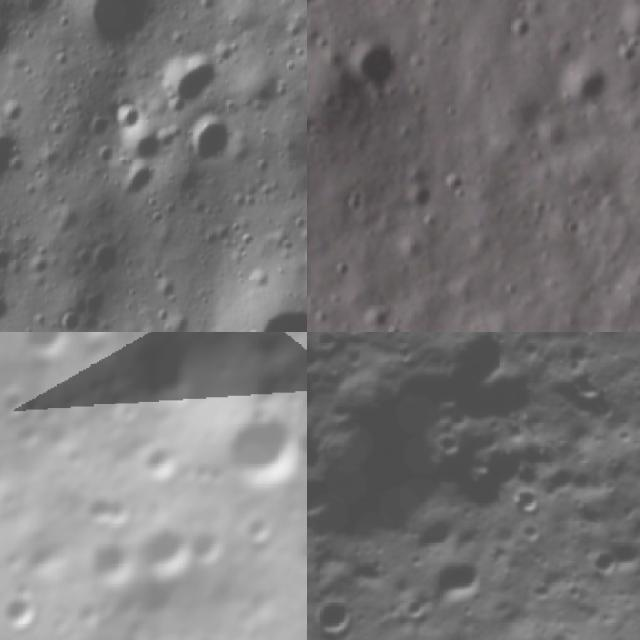crater: (307, 360, 508, 595), (209, 401, 307, 512), (443, 422, 541, 522), (124, 332, 227, 421), (471, 356, 556, 440), (436, 332, 528, 402), (132, 516, 208, 590), (77, 529, 149, 601), (578, 519, 640, 599), (78, 0, 163, 57), (427, 546, 493, 612), (183, 102, 243, 168), (162, 46, 218, 114), (344, 38, 404, 98), (307, 581, 367, 640), (96, 90, 152, 152), (182, 518, 238, 574), (0, 583, 51, 640), (556, 60, 614, 109), (79, 230, 132, 283), (238, 508, 285, 554), (14, 332, 74, 367), (0, 375, 41, 426), (64, 332, 129, 351), (285, 418, 307, 474), (402, 182, 436, 215), (504, 13, 537, 46), (60, 442, 94, 474), (439, 164, 467, 196)
